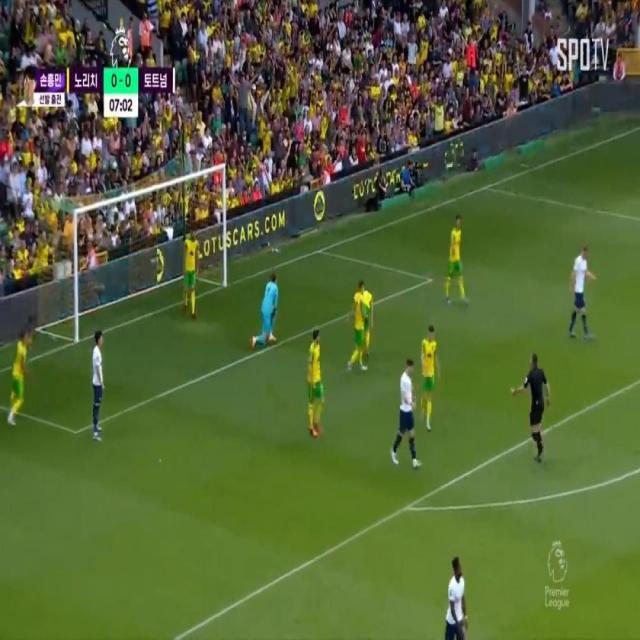goalkeeper: (251, 261, 283, 355)
player: (397, 361, 418, 467), (306, 329, 326, 438), (571, 250, 593, 331), (449, 554, 468, 640), (422, 323, 438, 419), (90, 329, 104, 437), (352, 280, 366, 373), (449, 216, 463, 308), (185, 225, 198, 319), (13, 333, 26, 423), (362, 286, 375, 362)
referee: (524, 358, 546, 452)
